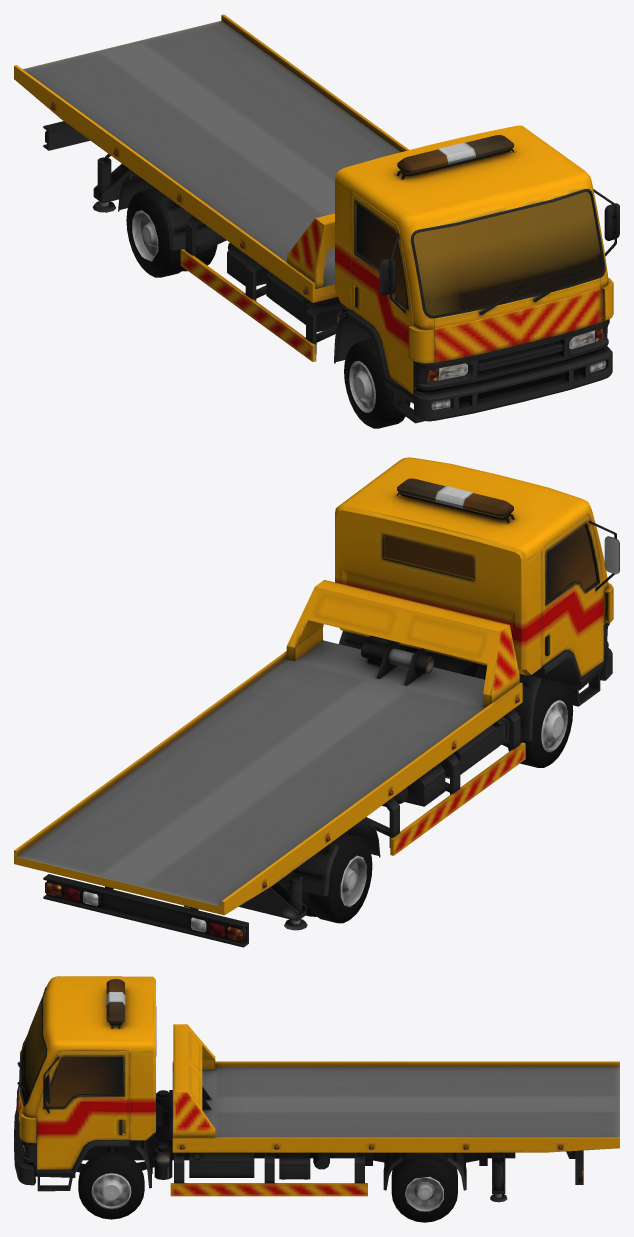
The model's file is towtruck.glb.
3 renders of one model, top to bottom at view 1: azimuth 30°, elevation 25°; view 2: azimuth 150°, elevation 25°; view 3: azimuth 270°, elevation 25°, orthographic. The views are drawn at different scales.
Parts seen in each view (by area): view 1: towtruck body, Rear Right Wheel, Front Right Wheel; view 2: towtruck body, Rear Right Wheel, Front Right Wheel; view 3: towtruck body, Rear Left Wheel, Front Left Wheel.
Boxes of the visible parts, box(x1,y1,x2,y2) form: towtruck body: box(14, 14, 619, 423); Rear Right Wheel: box(126, 188, 217, 277); Front Right Wheel: box(344, 338, 410, 428); towtruck body: box(14, 457, 619, 947); Rear Right Wheel: box(285, 833, 372, 923); Front Right Wheel: box(508, 677, 573, 767); towtruck body: box(14, 976, 619, 1202); Rear Left Wheel: box(391, 1152, 457, 1222); Front Left Wheel: box(78, 1152, 144, 1219).
Size of the model in its own units: 2.38 by 2.39 by 6.94.
Materials: 1 (1 with a texture image).
